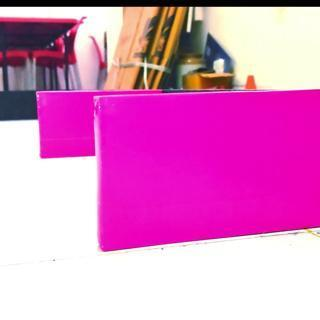xparking: (95, 93, 320, 250), (36, 90, 92, 160)
